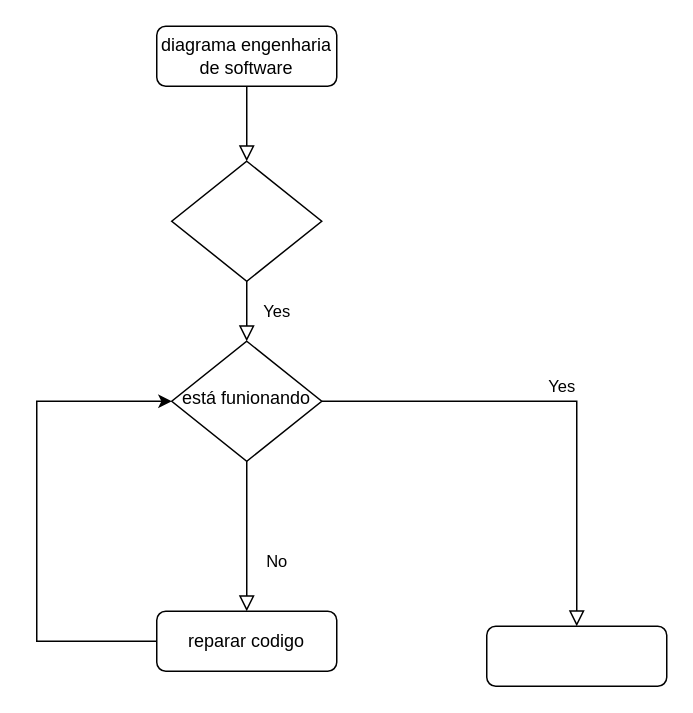
Image size: 693x713. Some labels were removed from this diagram. Here are the shapes that lost their labels. From the top down, the box of each, then its label:
(170, 160, 322, 281): fazer o codigo
(485, 625, 667, 686): Replace Bulb
